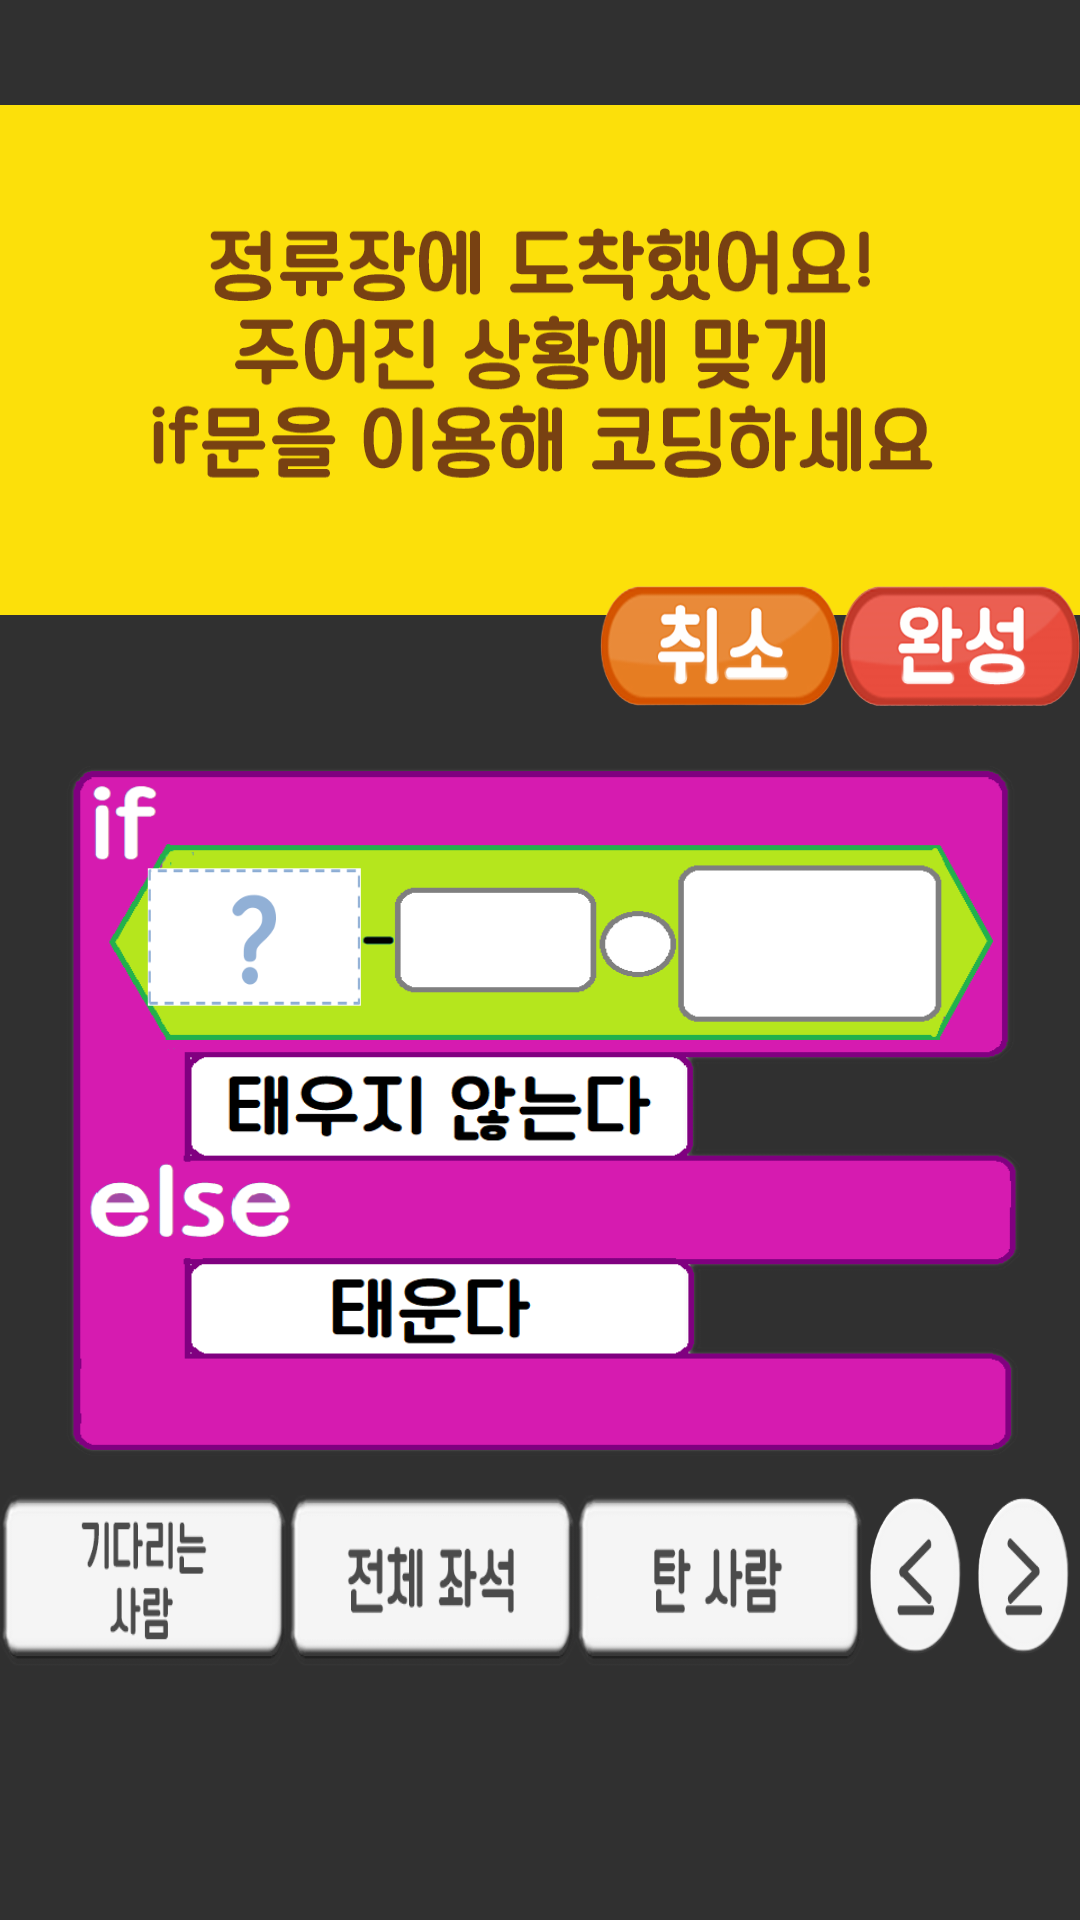

Icons on this 1080x1920 Android screen, each with the point to tap as point (x, y):
question: point (256, 937)
